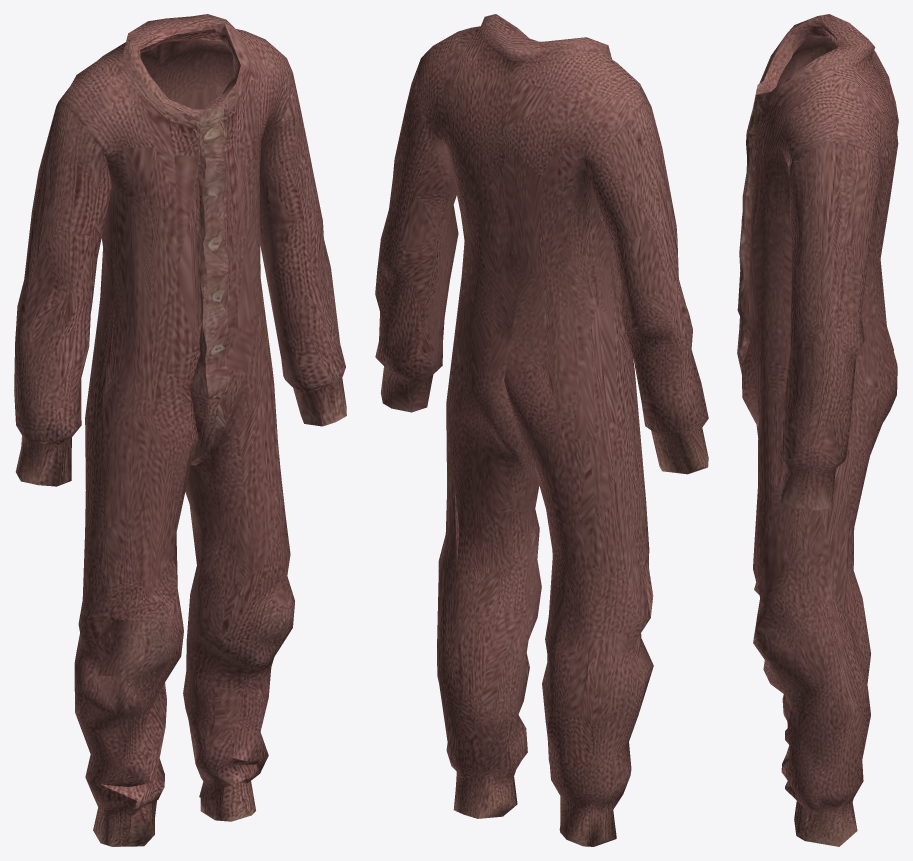
Rendered from long_johns.glb.
3 views of the same model, side by side, from view 1: azimuth 30°, elevation 25°; view 2: azimuth 150°, elevation 25°; view 3: azimuth 270°, elevation 25° (orthographic). The views are drawn at different scales.
Parts seen in each view (by area): view 1: long_johns; view 2: long_johns; view 3: long_johns.
Part boxes in pixels (x1,y1,x2,y2): long_johns: (14,14,346,846); long_johns: (375,14,708,846); long_johns: (737,14,898,846).
Bounding box in the file's own units: 0.6183 × 1.45 × 0.274.
Materials: 1 (1 with a texture image).
